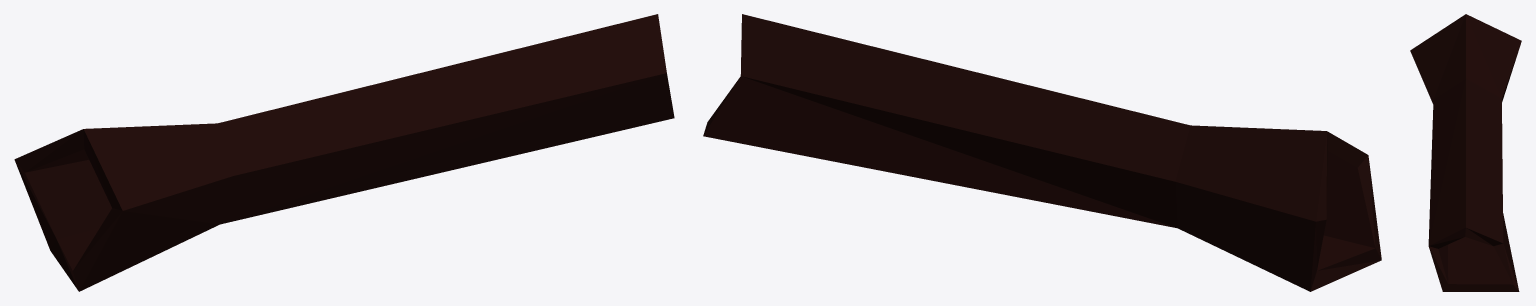
File: Trunk_01.glb
3 views of the same model, side by side, from view 1: azimuth 30°, elevation 25°; view 2: azimuth 150°, elevation 25°; view 3: azimuth 270°, elevation 25° (orthographic). The views are drawn at different scales.
Visible parts, largest first — view 1: Asset3DLoader.sceneRoot; view 2: Asset3DLoader.sceneRoot; view 3: Asset3DLoader.sceneRoot.
Boxes of the visible parts, x1=… form: Asset3DLoader.sceneRoot: x1=14, y1=14, x2=674, y2=291; Asset3DLoader.sceneRoot: x1=703, y1=14, x2=1381, y2=291; Asset3DLoader.sceneRoot: x1=1410, y1=14, x2=1521, y2=291.
Bounding box in the file's own units: 4.66 × 1.02 × 1.07.
